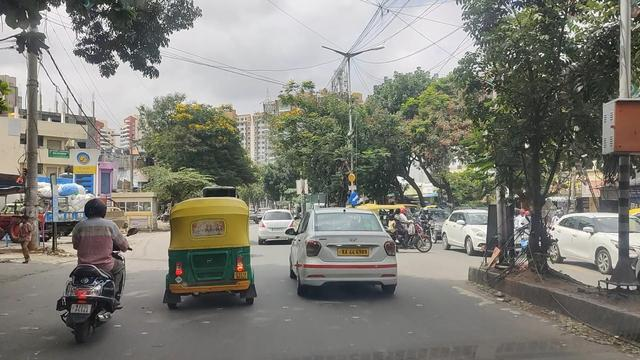LMV: (167, 205, 257, 305), (297, 209, 395, 299), (61, 199, 122, 335)
